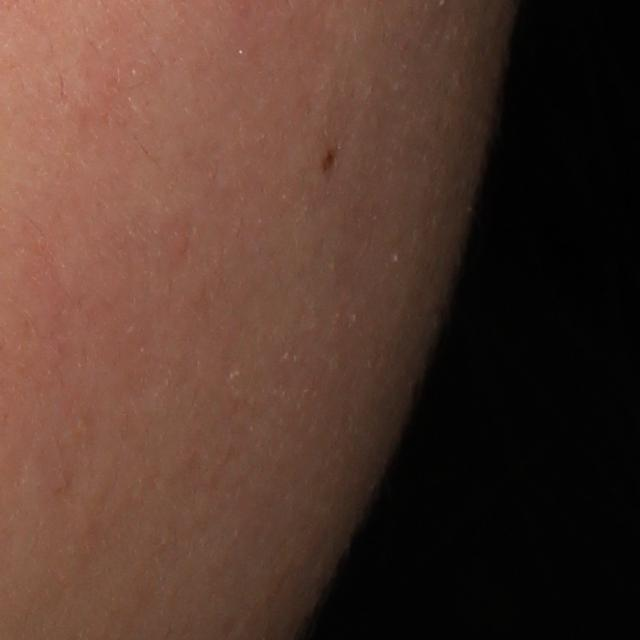nevus: (316, 144, 339, 179)
